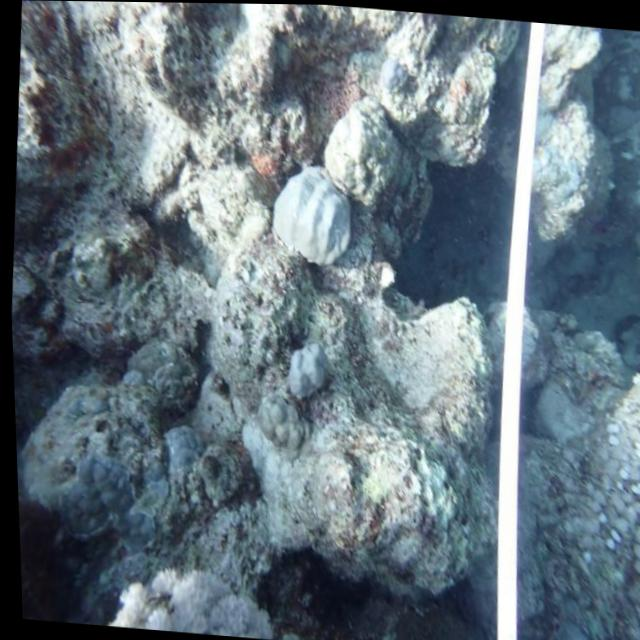Bleached Coral: (119, 547, 285, 640), (255, 148, 367, 282), (277, 316, 354, 419)
